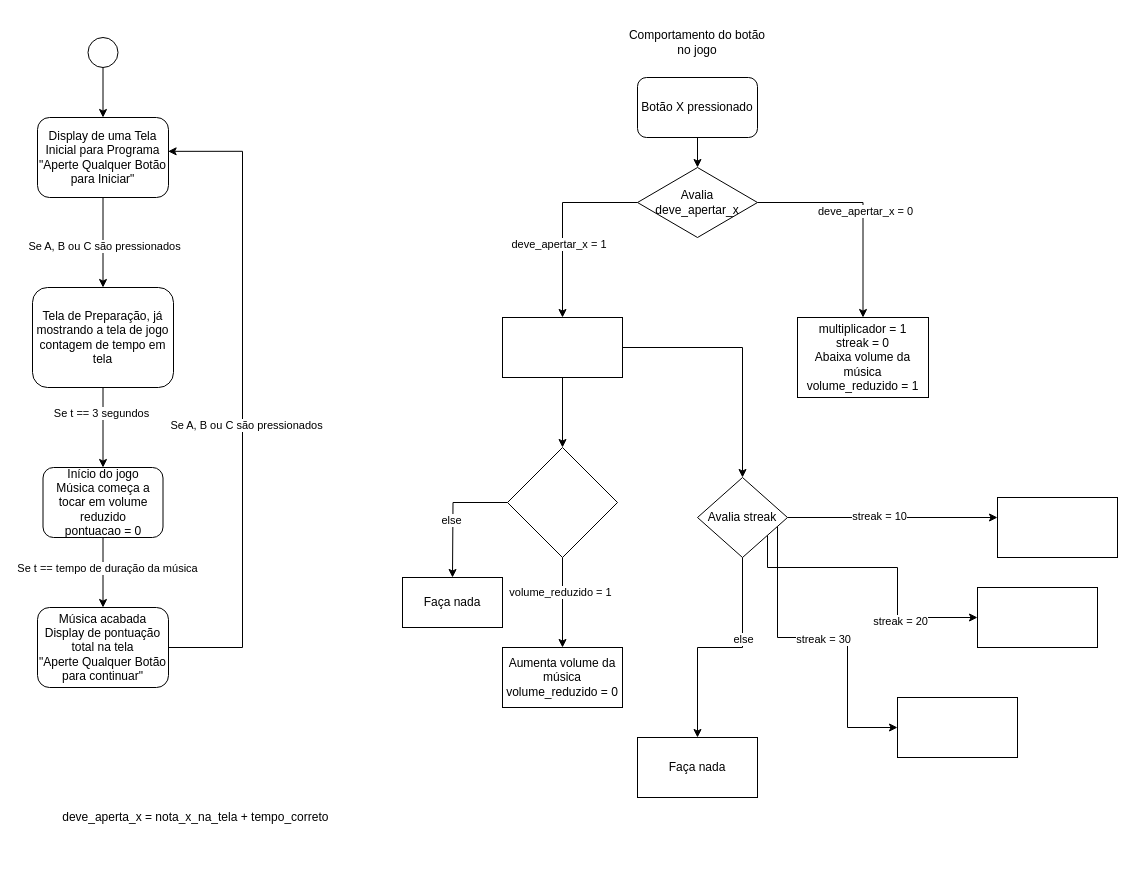
Image size: 1135x874. Some labels were removed from this diagram. Each missing label, with the box of its shape:
Avalia volume_reduzido: (506, 446, 618, 558)
multiplicador = 2: (996, 496, 1118, 558)
multiplicador = 3: (976, 586, 1098, 648)
multiplicador = 4: (896, 696, 1018, 758)
pontuacao = pontuacao += multiplicador * 50 streak += 1: (502, 316, 622, 378)
